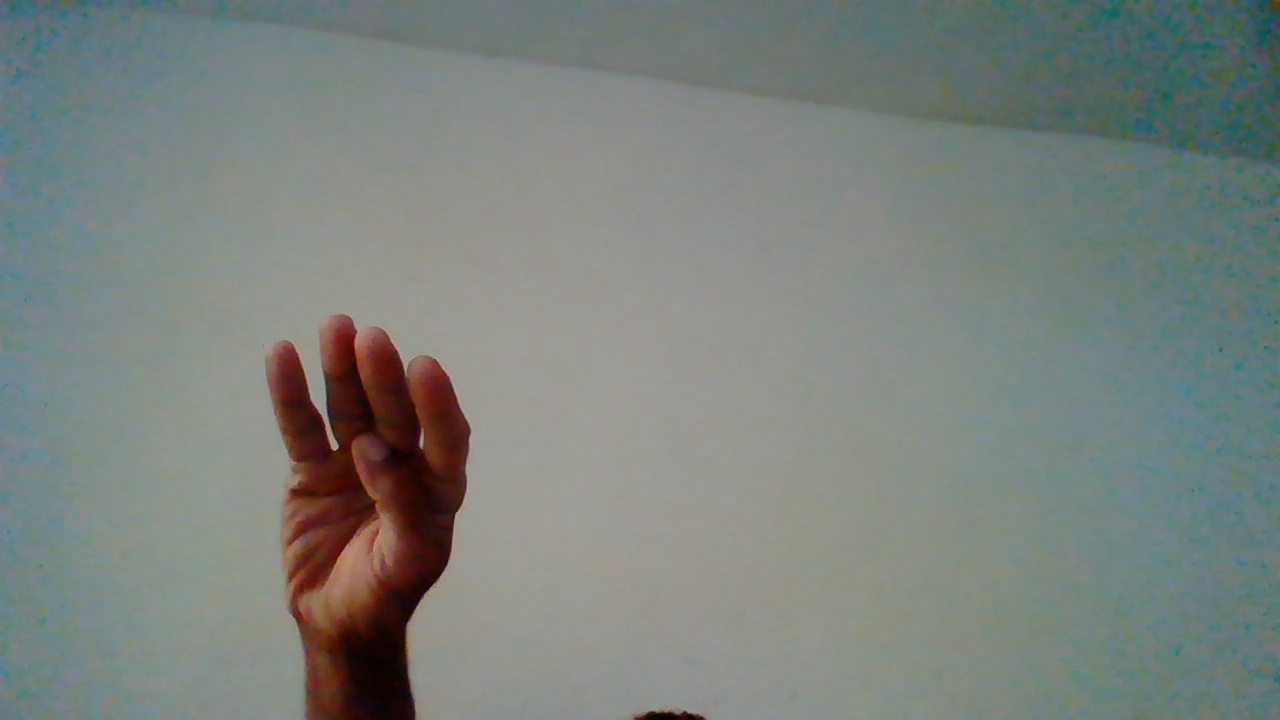me: (260, 311, 466, 714)
